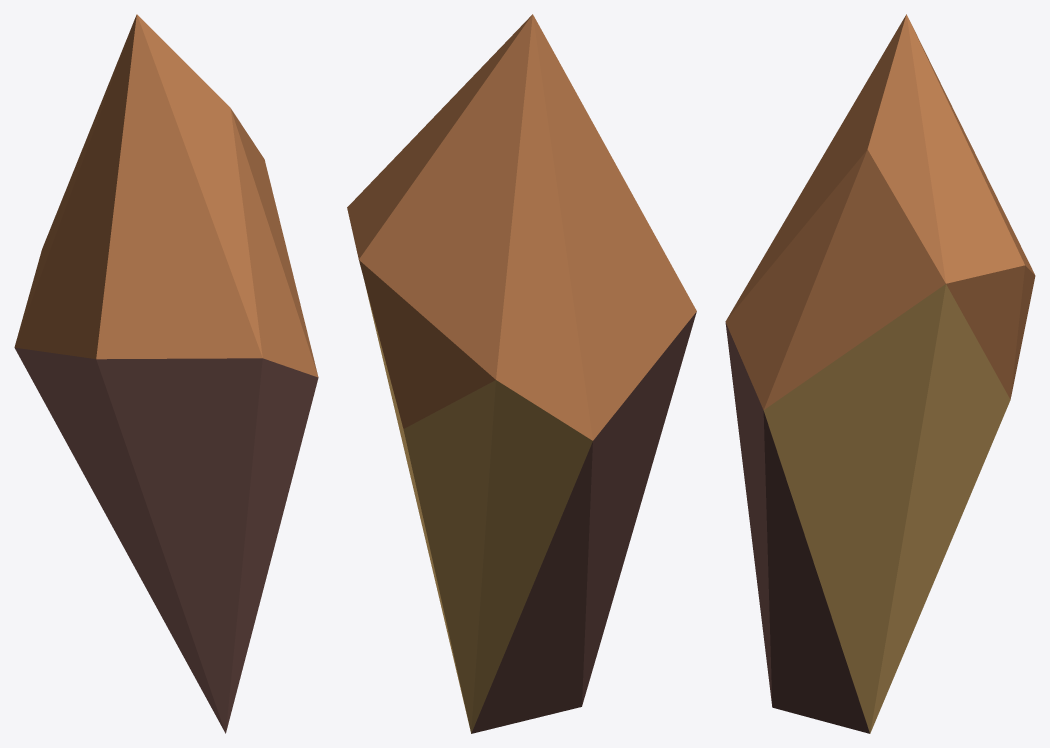
File: PineTree_Autumn_4.lod4.glb
3 renders of one model, left to right at view 1: azimuth 30°, elevation 25°; view 2: azimuth 150°, elevation 25°; view 3: azimuth 270°, elevation 25°, orthographic. The views are drawn at different scales.
Visible parts, largest first — view 1: PineTree_Autumn_4; view 2: PineTree_Autumn_4; view 3: PineTree_Autumn_4.
Part boxes in pixels (x1,y1,x2,y2): PineTree_Autumn_4: (14, 14, 318, 733); PineTree_Autumn_4: (347, 14, 696, 733); PineTree_Autumn_4: (725, 14, 1035, 733).
Bounding box in the file's own units: 1.26 × 3.39 × 1.39.
